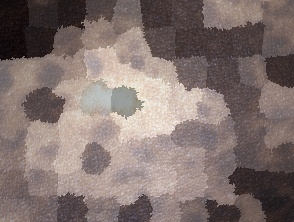vitiligo: (40, 67, 176, 144)
